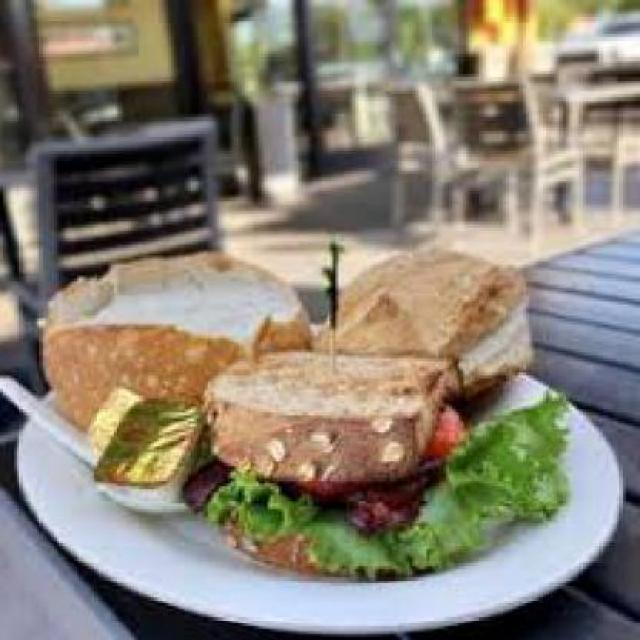clam chowder: (42, 233, 307, 435)
club sandwich: (213, 239, 572, 563)
